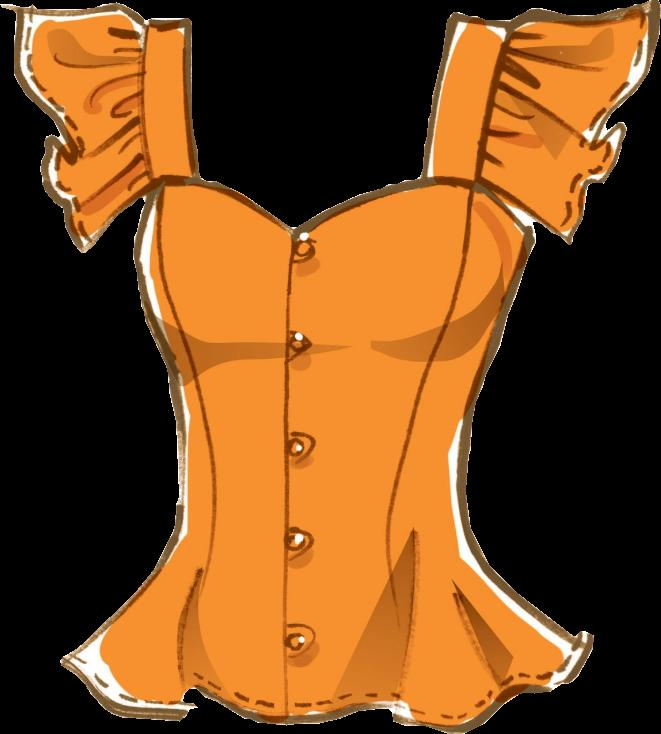Bodice: (60, 12, 593, 733)
Neckline: (182, 12, 456, 239), (150, 174, 539, 245)
Sleeve: (478, 0, 659, 244), (14, 2, 151, 252)
Sleeveline: (474, 17, 518, 184), (132, 17, 158, 194)
Waistline: (56, 638, 599, 733)
